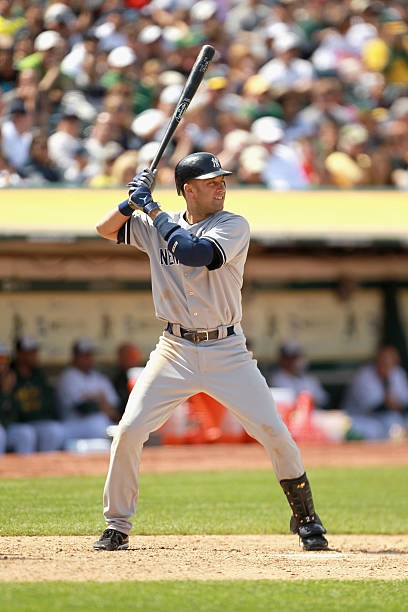bita: (126, 46, 211, 197)
